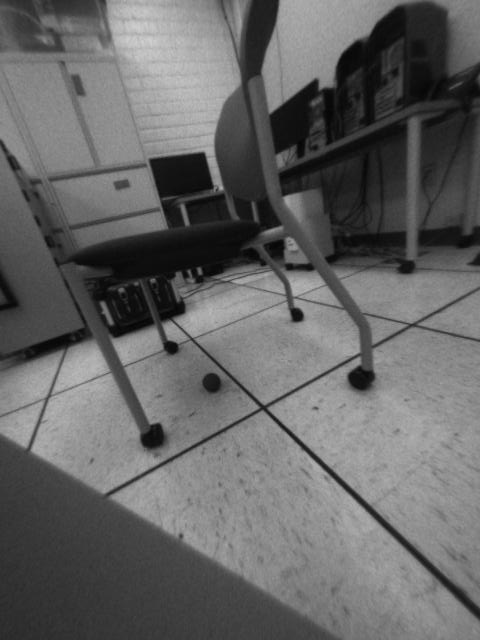dogtoy: (196, 367, 227, 396)
